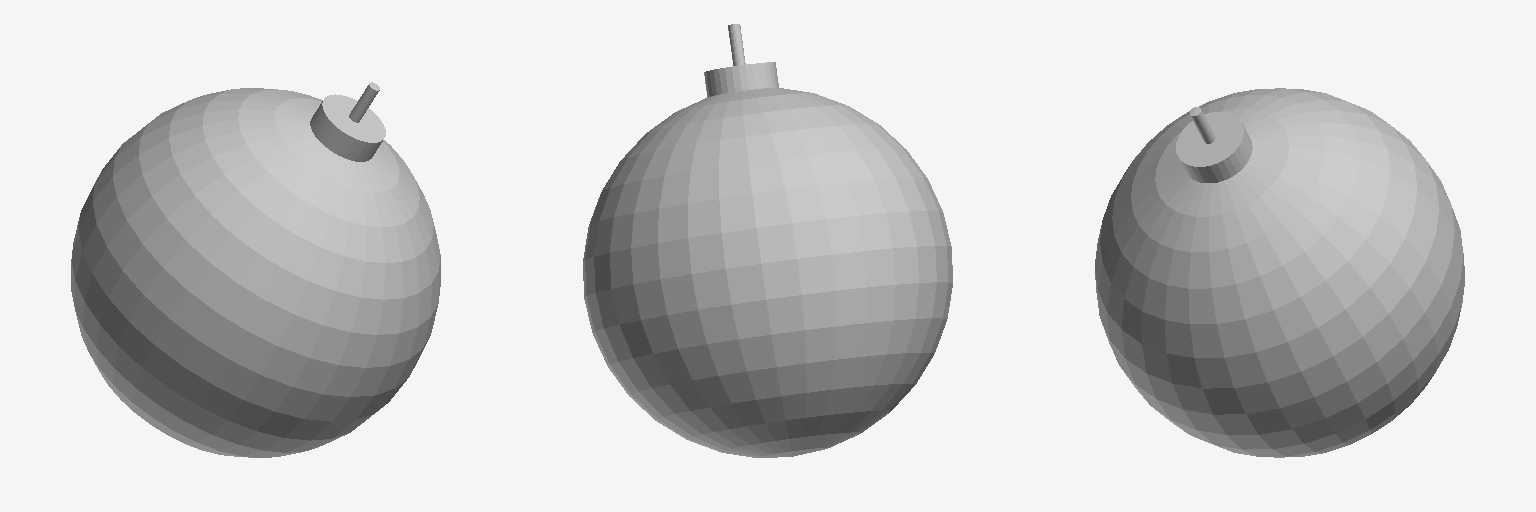
File: tilted_bomb_9.obj
3 renders of one model, left to right at view 1: azimuth 30°, elevation 25°; view 2: azimuth 150°, elevation 25°; view 3: azimuth 270°, elevation 25°, orthographic.
Visible parts, largest first — view 1: Sphere; view 2: Sphere; view 3: Sphere.
Part boxes in pixels (x1,y1,x2,y2): Sphere: (71, 82, 440, 457); Sphere: (583, 24, 952, 457); Sphere: (1095, 88, 1464, 457).
Bounding box in the file's own units: 17.96 × 19.74 × 17.98.